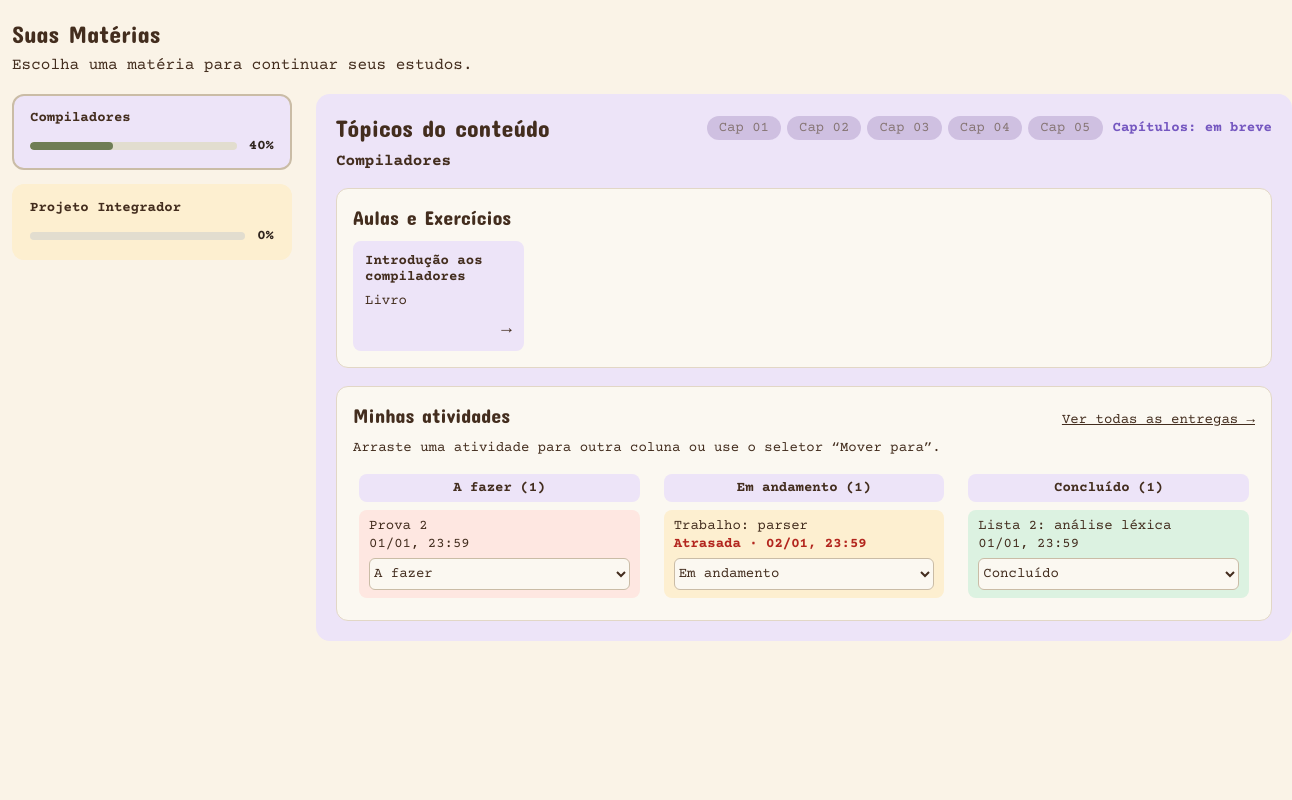
it: Matérias › desfaz a mudança e avisa quando o servidor recusa
Select "Concluído" in the dropdown named "Mover Prova 2 para": [499, 574] box [369,558,630,590]
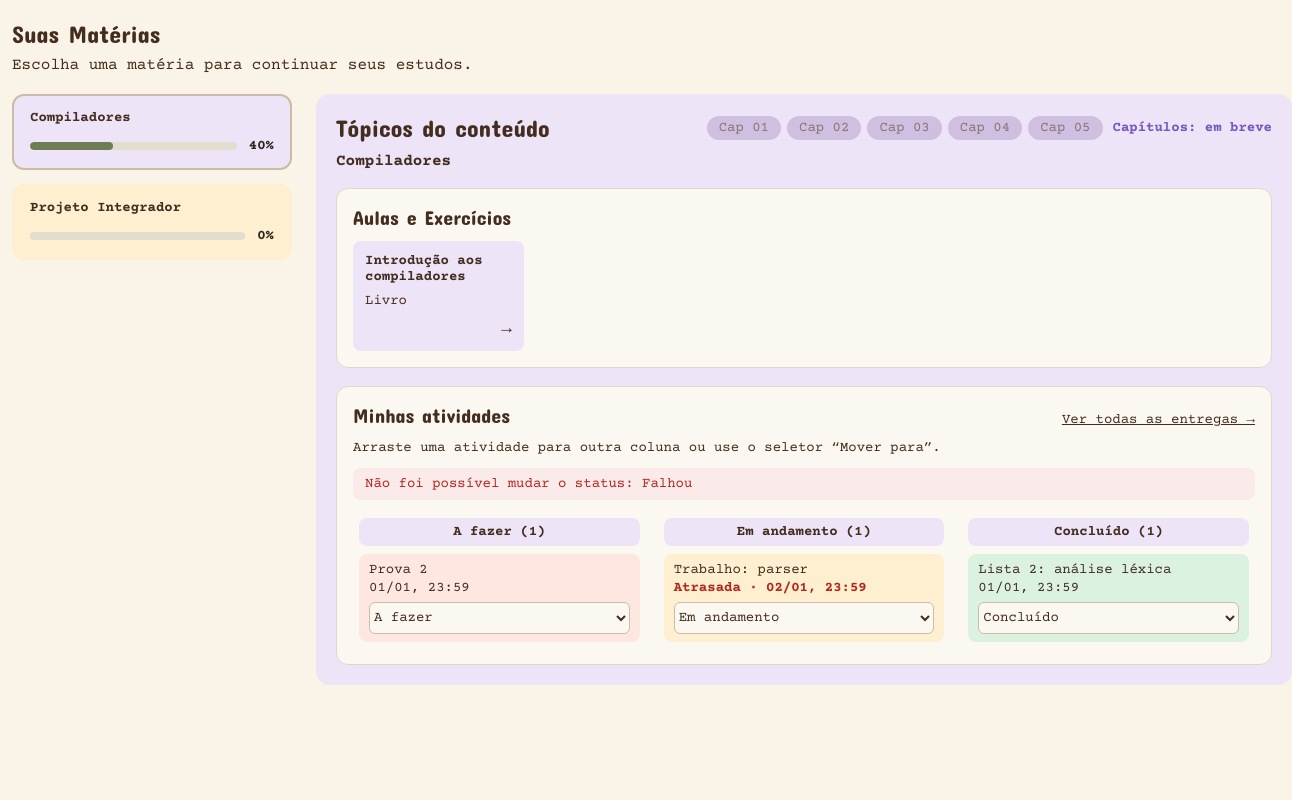
Check: the heading "A fazer (1)" is shown, box [359,518,640,546]
Check: the message shows "Não foi possível mudar o status", box [365,476,642,492]
